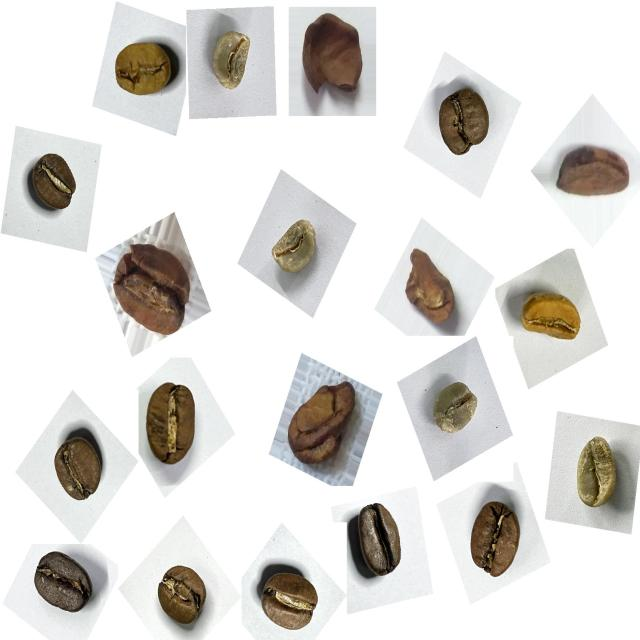bad: (104, 228, 202, 346), (280, 370, 368, 480), (291, 5, 377, 113), (546, 128, 634, 212), (398, 240, 463, 335)
dark: (340, 496, 413, 592), (22, 542, 102, 628)
green: (559, 424, 633, 524), (259, 207, 329, 290), (200, 20, 264, 101), (424, 371, 486, 445)
light: (104, 25, 184, 112), (512, 271, 590, 355)
medium: (134, 371, 215, 480), (459, 488, 534, 586), (246, 557, 327, 640), (428, 80, 501, 166), (43, 426, 115, 512), (148, 554, 216, 639), (22, 142, 88, 222)
